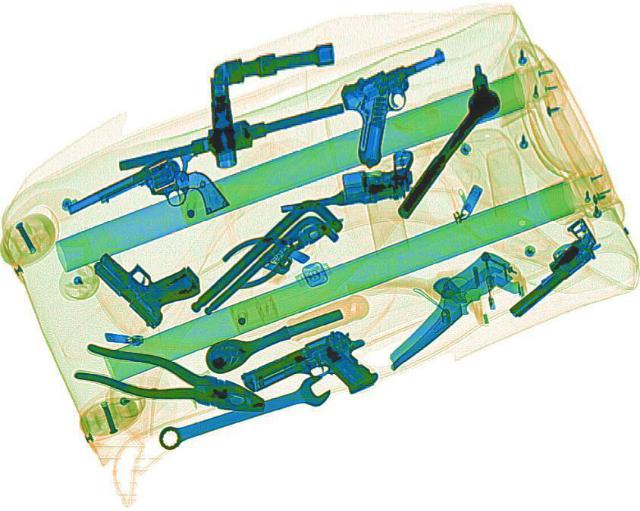Gun: (310, 44, 492, 167), (58, 146, 234, 261), (232, 322, 390, 423), (80, 227, 218, 330), (479, 216, 617, 317), (267, 147, 425, 215)
Pliers: (69, 337, 275, 422), (206, 198, 362, 293)
Wrench: (149, 370, 335, 457)
